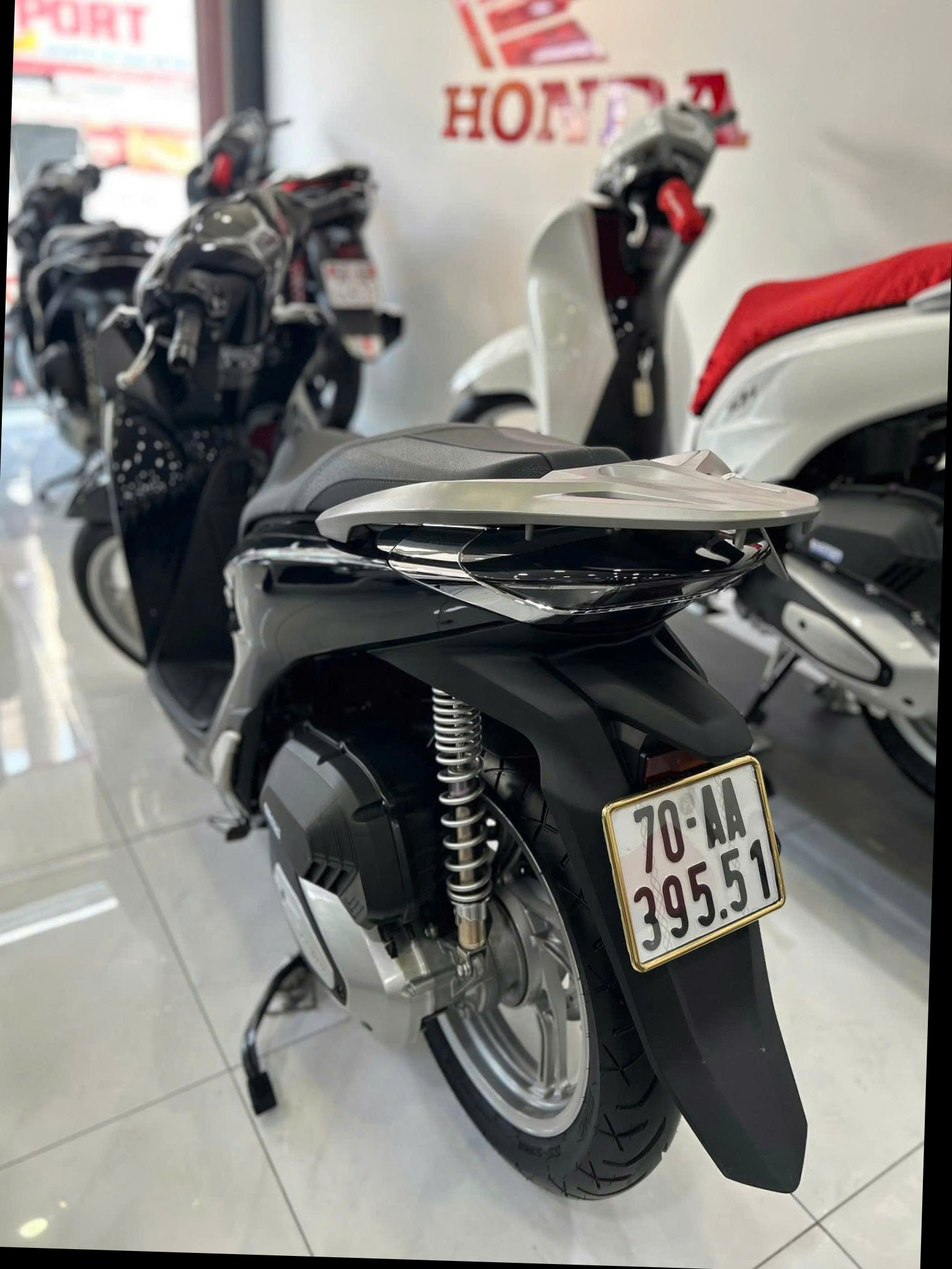Bien-so: (586, 803, 774, 1023)
